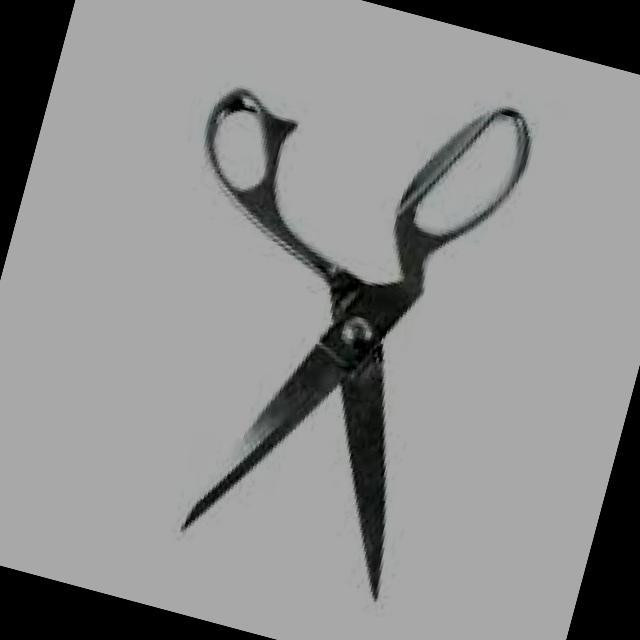Scissors: (75, 7, 564, 631)
